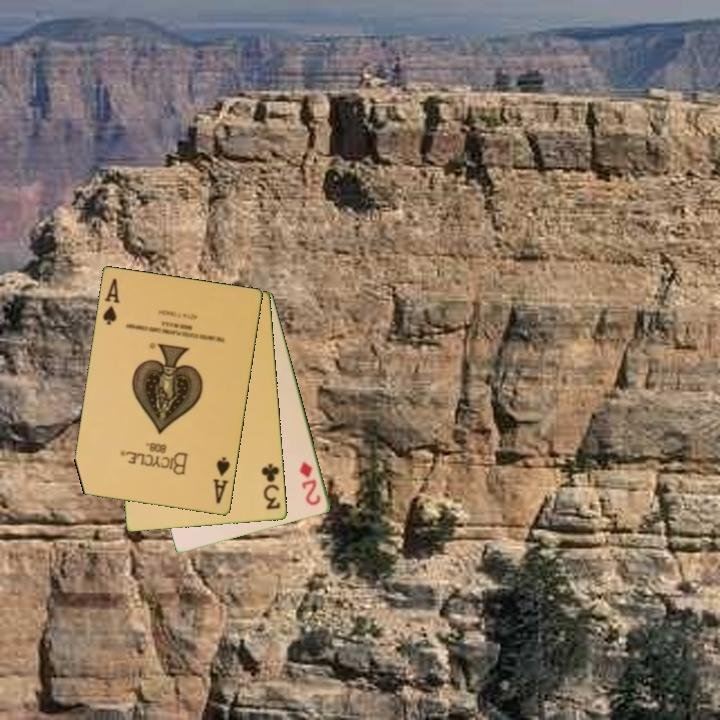2d: (296, 458, 324, 509)
3c: (258, 460, 283, 512)
As: (99, 275, 123, 328), (210, 454, 233, 507)
